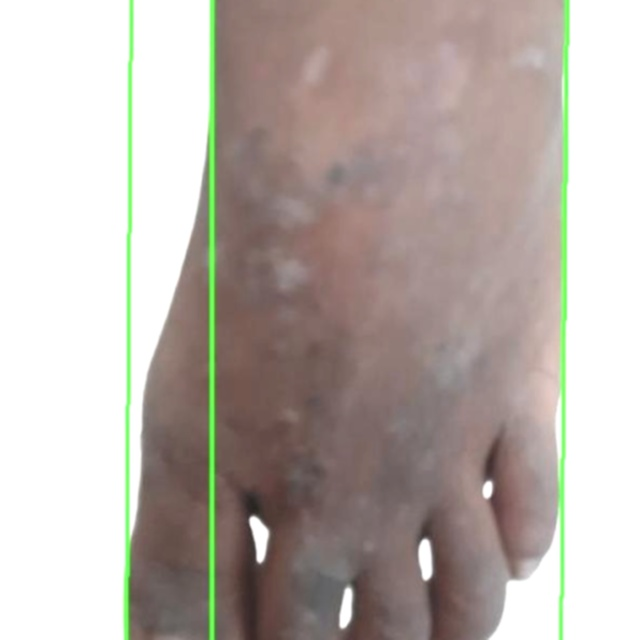Contact Dermatitis: (125, 0, 566, 639), (0, 0, 210, 639)
